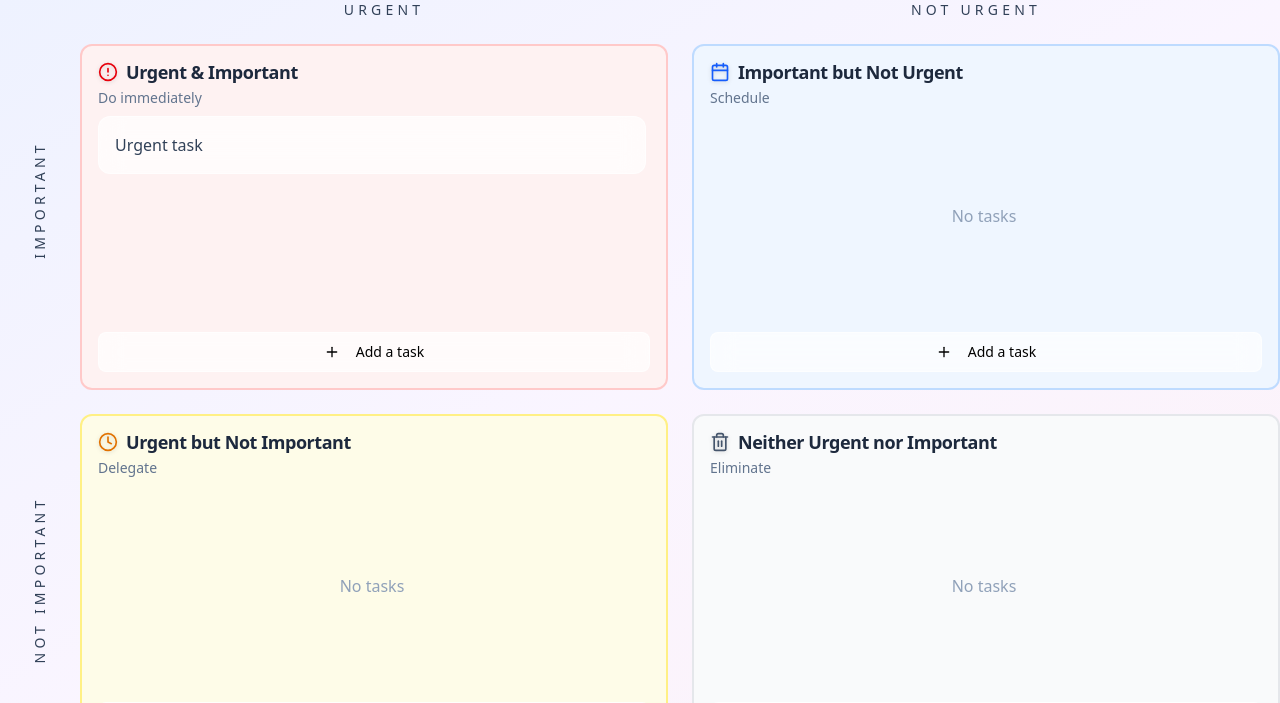
Scenario: EisenhowerMatrix › adds a task via form
The width and height of the screenshot is (1280, 703).
Click the button "Add a task" below "Urgent task".
click(374, 352)  # box [98,332,650,372]
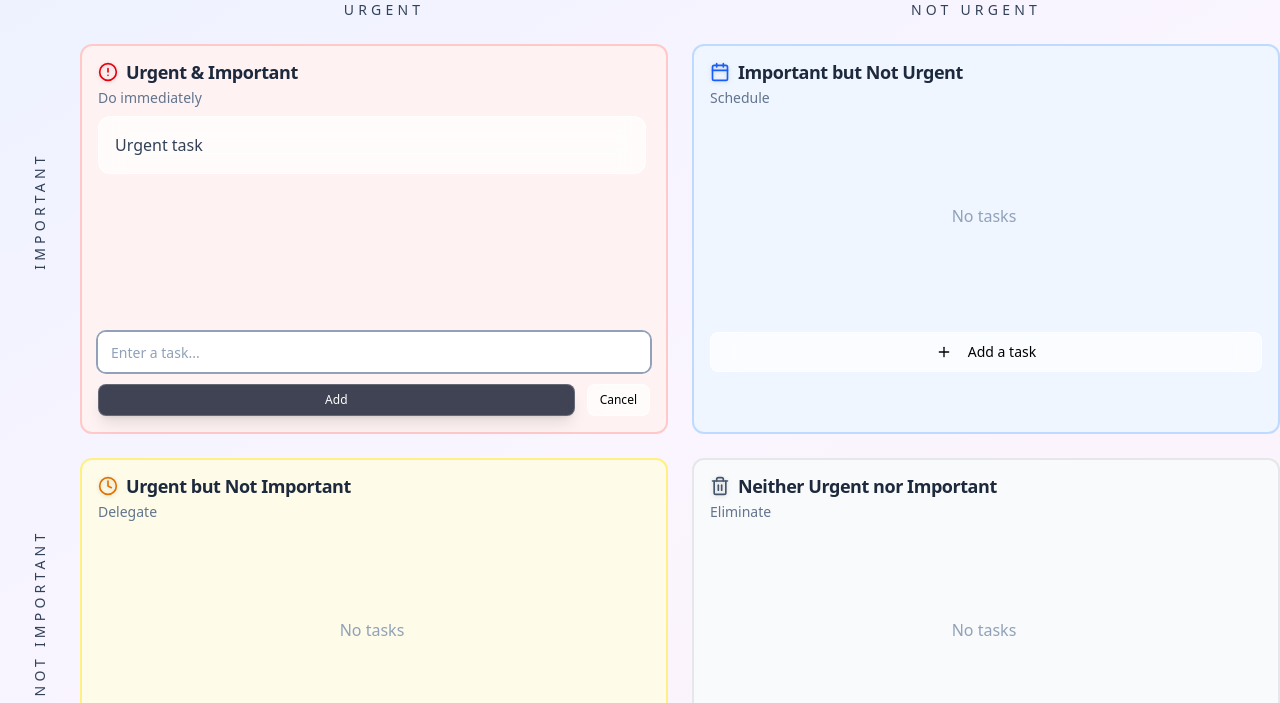
Type "Brand new task" into the field with placeholder "Enter a task...".
click(374, 352); type("Brand new task")  # box [98,332,650,372]
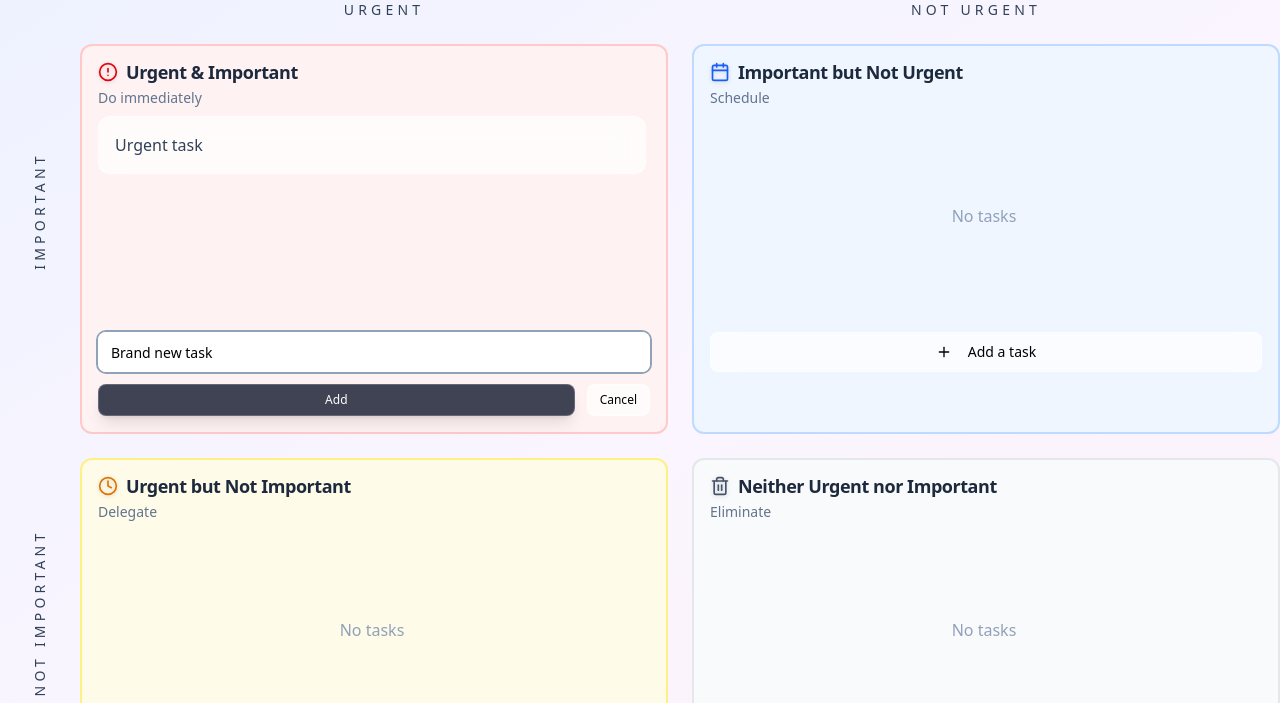
Press Enter
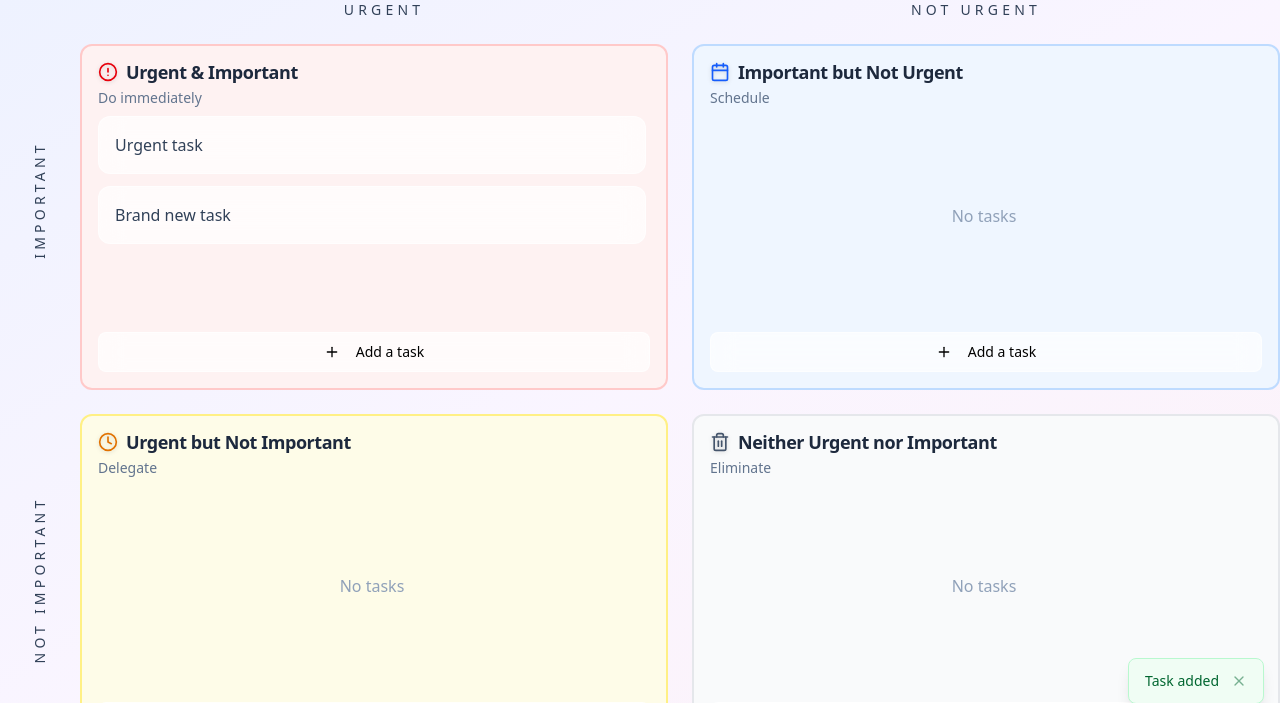
Expected: the text "Brand new task" is shown, [115,204,231,226]
